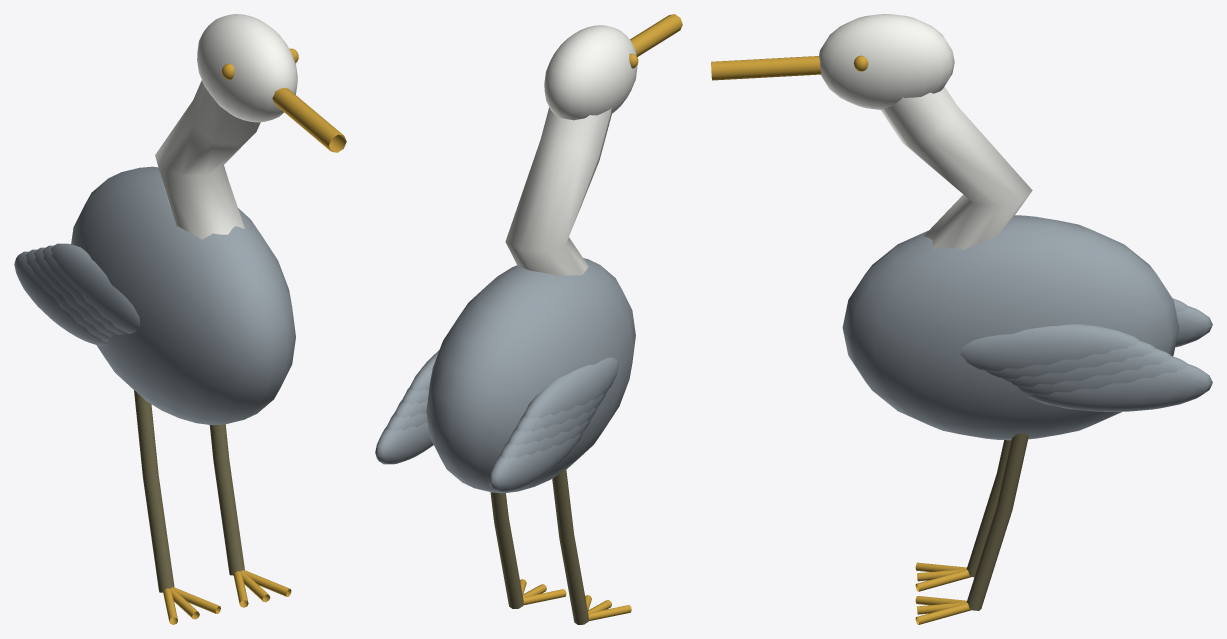
The model's file is heron.glb.
3 views of the same model, side by side, from view 1: azimuth 30°, elevation 25°; view 2: azimuth 150°, elevation 25°; view 3: azimuth 270°, elevation 25° (orthographic). The views are drawn at different scales.
Parts seen in each view (by area): view 1: Body.002, Folded neck.001, Head.002, Wing feather.020, Leg.002, Leg.003, Wing feather.024, Pointed bill.001, Wing feather.023, Wing feather.021, Wing feather.022; view 2: Body.002, Folded neck.001, Head.002, Wing feather.020, Leg.002, Wing feather.024, Leg.003, Wing feather.029, Pointed bill.001, Wing feather.021, Wing feather.022, Wing feather.023 (+2 smaller); view 3: Body.002, Folded neck.001, Head.002, Wing feather.025, Wing feather.029, Leg.003, Pointed bill.001, Wing feather.028, Wing feather.026, Wing feather.027, Leg.002, Wing feather.024.
Boxes of the visible parts, x1=… form: Body.002: x1=71, y1=166, x2=295, y2=425; Folded neck.001: x1=155, y1=80, x2=260, y2=239; Head.002: x1=197, y1=14, x2=297, y2=122; Wing feather.020: x1=51, y1=243, x2=140, y2=333; Leg.002: x1=134, y1=390, x2=174, y2=592; Leg.003: x1=209, y1=424, x2=244, y2=575; Wing feather.024: x1=14, y1=251, x2=107, y2=346; Pointed bill.001: x1=272, y1=87, x2=346, y2=152; Wing feather.023: x1=25, y1=249, x2=109, y2=342; Wing feather.021: x1=42, y1=245, x2=125, y2=334; Wing feather.022: x1=34, y1=247, x2=116, y2=336; Body.002: x1=426, y1=258, x2=635, y2=493; Folded neck.001: x1=505, y1=107, x2=611, y2=276; Head.002: x1=544, y1=25, x2=637, y2=120; Wing feather.020: x1=523, y1=357, x2=618, y2=419; Leg.002: x1=552, y1=468, x2=588, y2=624; Wing feather.024: x1=489, y1=430, x2=584, y2=492; Leg.003: x1=490, y1=492, x2=523, y2=608; Wing feather.029: x1=375, y1=423, x2=433, y2=464; Pointed bill.001: x1=630, y1=14, x2=682, y2=56; Wing feather.021: x1=515, y1=390, x2=607, y2=432; Wing feather.022: x1=507, y1=403, x2=600, y2=445; Wing feather.023: x1=500, y1=416, x2=592, y2=458; Body.002: x1=842, y1=215, x2=1179, y2=440; Folded neck.001: x1=881, y1=86, x2=1032, y2=249; Head.002: x1=819, y1=14, x2=954, y2=109; Wing feather.025: x1=960, y1=324, x2=1140, y2=370; Wing feather.029: x1=1026, y1=364, x2=1212, y2=411; Leg.003: x1=967, y1=433, x2=1028, y2=610; Pointed bill.001: x1=711, y1=56, x2=821, y2=80; Wing feather.028: x1=1017, y1=356, x2=1188, y2=394; Wing feather.026: x1=985, y1=340, x2=1156, y2=378; Wing feather.027: x1=1002, y1=348, x2=1172, y2=386; Leg.002: x1=966, y1=440, x2=1011, y2=577; Wing feather.024: x1=1175, y1=306, x2=1212, y2=347.
Size of the model in its own units: 0.3614 by 1.34 by 1.05.
